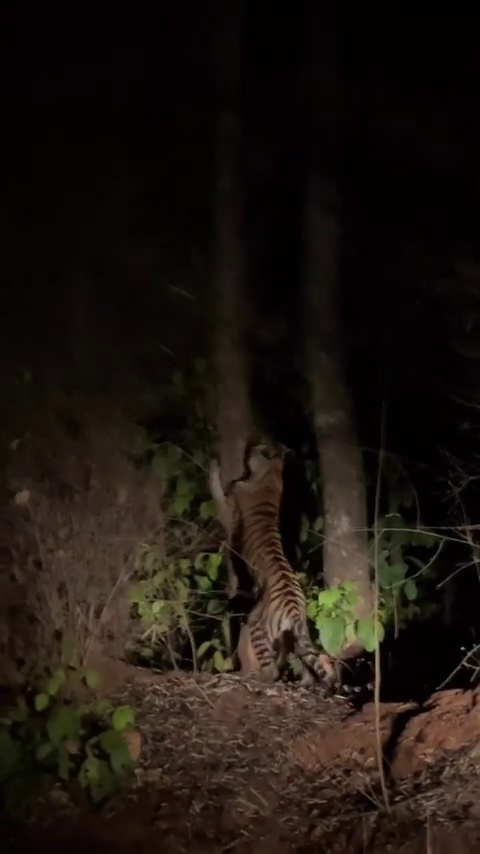Tiger: (206, 433, 376, 696)
